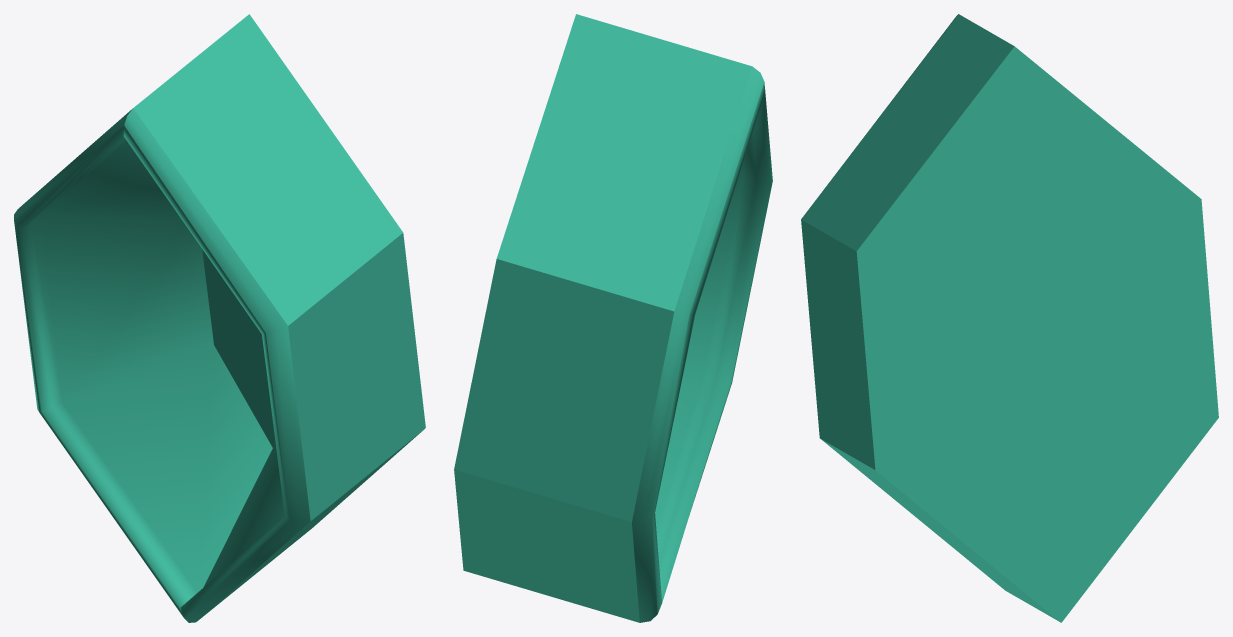
The model's file is TL5_8shapes_Hex_Classic_Metal.001 2.glb.
3 renders of one model, left to right at view 1: azimuth 30°, elevation 25°; view 2: azimuth 150°, elevation 25°; view 3: azimuth 270°, elevation 25°, orthographic. The views are drawn at different scales.
Visible parts, largest first — view 1: TL5_8shapes_Hex_Classic_Metal.001; view 2: TL5_8shapes_Hex_Classic_Metal.001; view 3: TL5_8shapes_Hex_Classic_Metal.001.
Part boxes in pixels (<box>): TL5_8shapes_Hex_Classic_Metal.001: <box>14,14,425,622</box>; TL5_8shapes_Hex_Classic_Metal.001: <box>454,14,772,622</box>; TL5_8shapes_Hex_Classic_Metal.001: <box>801,14,1218,622</box>.
Size of the model in its own units: 0.3625 by 0.7355 by 0.4872.
